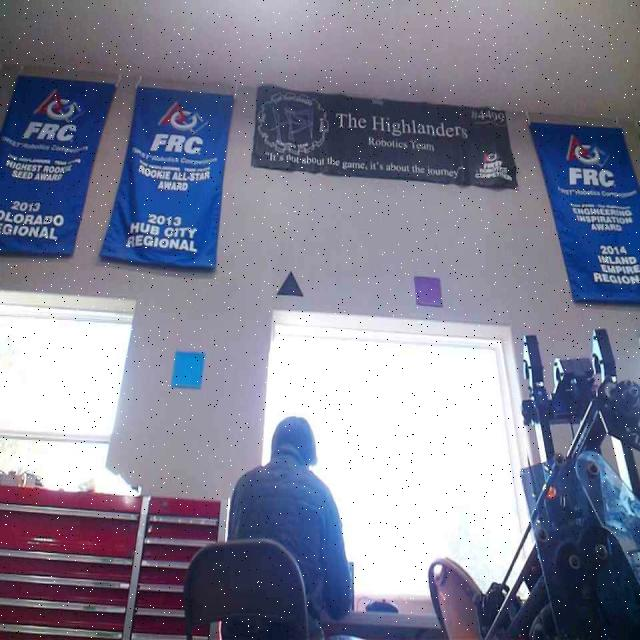square_blue: (168, 348, 206, 386)
square_purple: (411, 274, 443, 306)
triangle_black: (276, 268, 303, 296)
